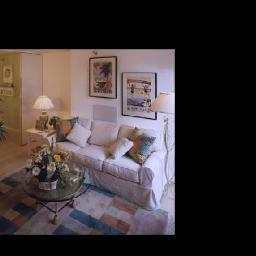Puerta: (21, 54, 39, 142)
